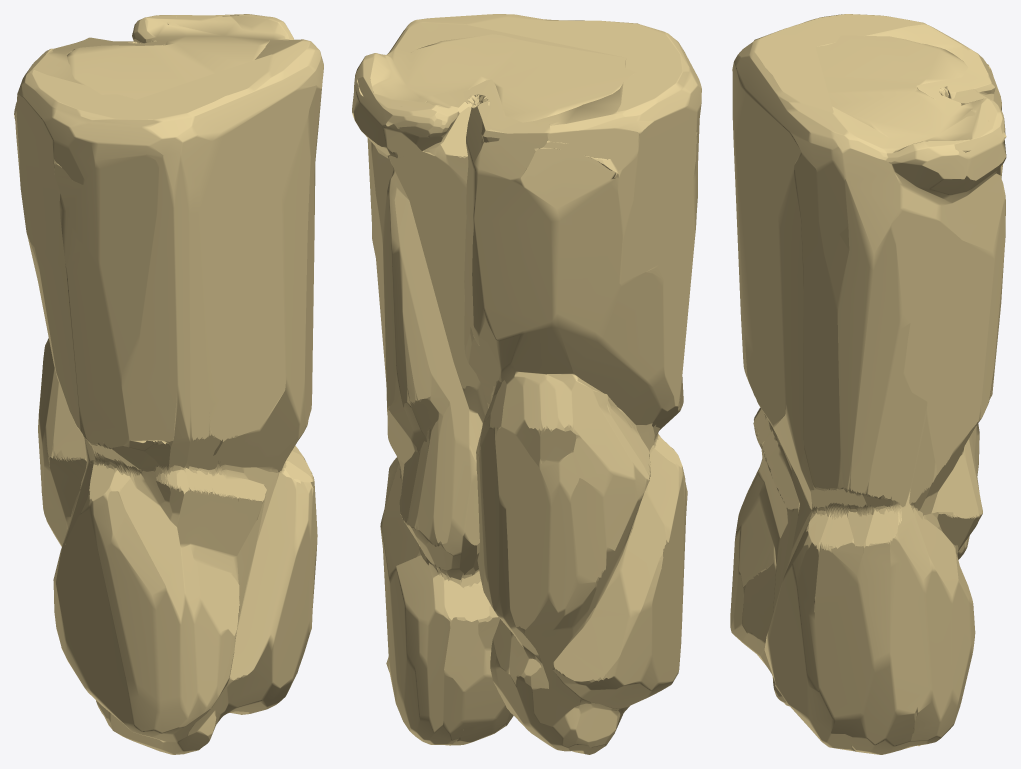
Rendered from gap_PolyShape__15_LODs.fbx.
3 renders of one model, left to right at view 1: azimuth 30°, elevation 25°; view 2: azimuth 150°, elevation 25°; view 3: azimuth 270°, elevation 25°, orthographic. The views are drawn at different scales.
Visible parts, largest first — view 1: PolyShape (15)_LOD0; view 2: PolyShape (15)_LOD0; view 3: PolyShape (15)_LOD0.
Boxes of the visible parts, left/top/right/bottom form: PolyShape (15)_LOD0: left=14, top=14, right=323, bottom=754; PolyShape (15)_LOD0: left=352, top=14, right=701, bottom=754; PolyShape (15)_LOD0: left=730, top=14, right=1006, bottom=754.
Size of what is drawn, in the model's own units: 881 by 1958 by 756.
